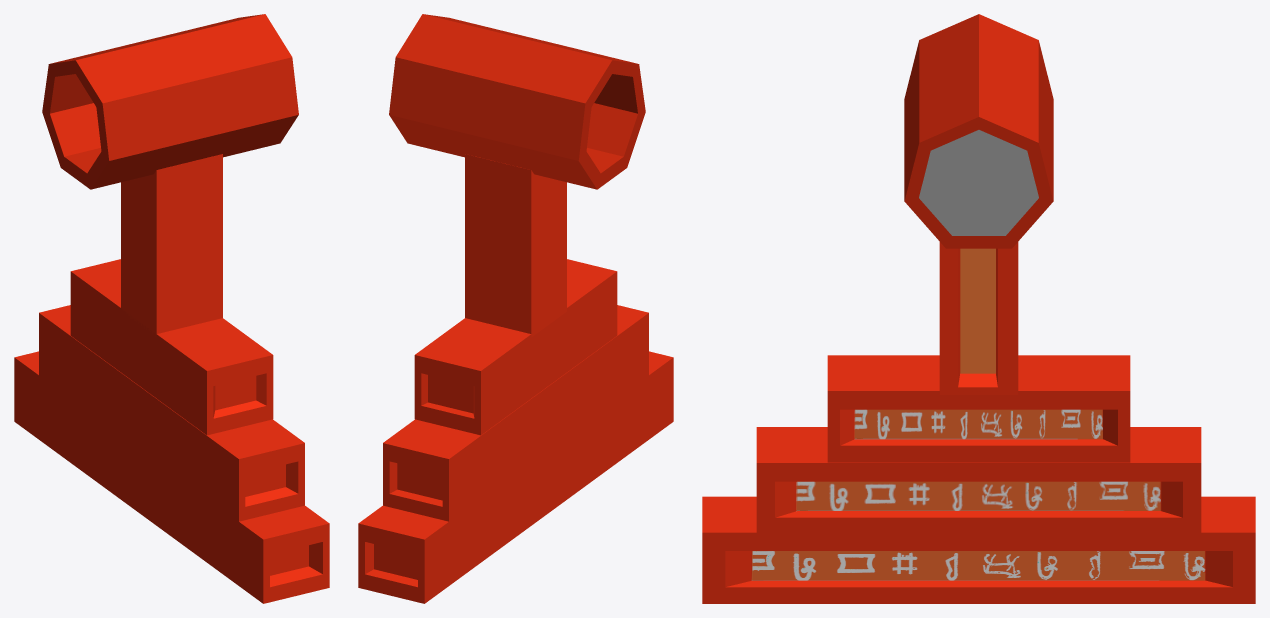
Rendered from Portal (2).fbx.
3 renders of one model, left to right at view 1: azimuth 30°, elevation 25°; view 2: azimuth 150°, elevation 25°; view 3: azimuth 270°, elevation 25°, orthographic. The views are drawn at different scales.
Parts seen in each view (by area): view 1: polySurface8, polySurface7, polySurface6, polySurface5, polySurface4; view 2: polySurface8, polySurface7, polySurface6, polySurface5, polySurface4; view 3: polySurface7, polySurface6, polySurface5, polySurface8, polySurface4, polySurface9.
Part boxes in pixels (left/top/right/bottom): polySurface8: left=42, top=14, right=298, bottom=189; polySurface7: left=14, top=351, right=329, bottom=603; polySurface6: left=39, top=305, right=304, bottom=521; polySurface5: left=70, top=259, right=273, bottom=435; polySurface4: left=121, top=154, right=222, bottom=337; polySurface8: left=389, top=14, right=645, bottom=189; polySurface7: left=358, top=351, right=673, bottom=603; polySurface6: left=383, top=305, right=648, bottom=521; polySurface5: left=414, top=259, right=617, bottom=435; polySurface4: left=465, top=154, right=566, bottom=337; polySurface7: left=702, top=496, right=1255, bottom=603; polySurface6: left=756, top=427, right=1201, bottom=534; polySurface5: left=827, top=355, right=1130, bottom=462; polySurface8: left=904, top=14, right=1053, bottom=248; polySurface4: left=939, top=242, right=1018, bottom=394; polySurface9: left=919, top=130, right=1038, bottom=235.
Bounding box in the file's own units: 3.19 × 7.51 × 7.24.
5 materials, 1 textured.
